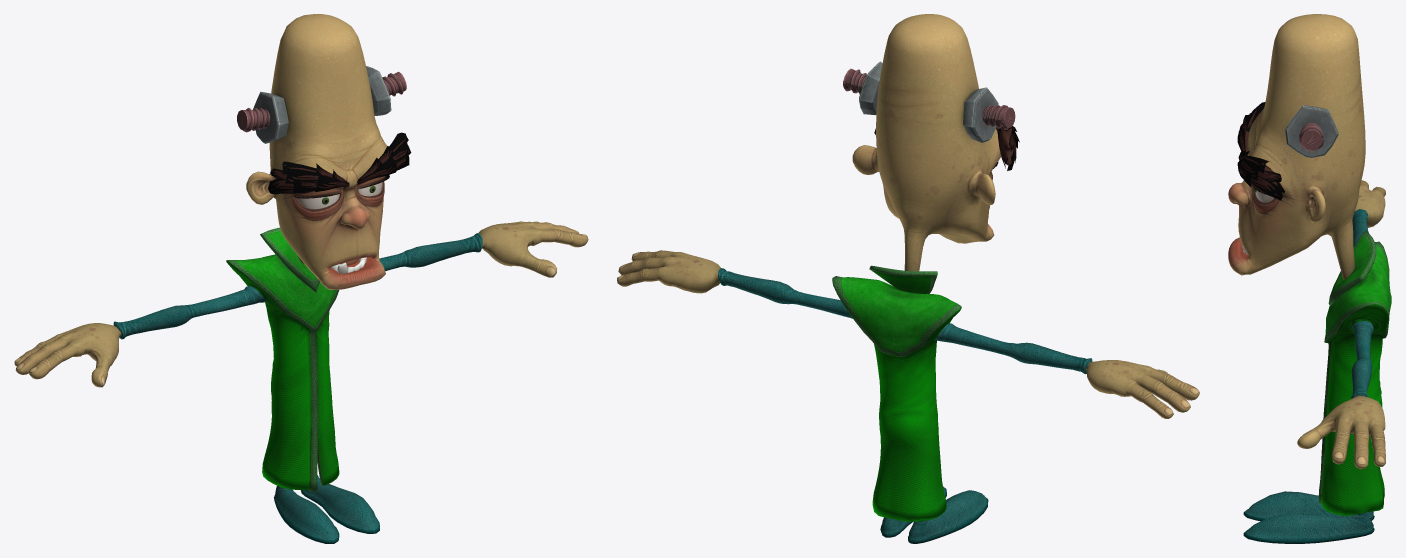
Rendered from nitrus_brio.glb.
3 views of the same model, side by side, from view 1: azimuth 30°, elevation 25°; view 2: azimuth 150°, elevation 25°; view 3: azimuth 270°, elevation 25° (orthographic). The views are drawn at different scales.
Parts seen in each view (by area): view 1: Object_2, Object_6, Object_3, Object_5, Object_4, Object_7, Object_8; view 2: Object_2, Object_4, Object_3, Object_5, Object_7, Object_6; view 3: Object_3, Object_4, Object_2, Object_5, Object_6, Object_7, Object_8.
Boxes of the visible parts, x1,y1,x2,y2 form: Object_2: [269, 15, 387, 284]; Object_6: [15, 66, 553, 490]; Object_3: [246, 14, 385, 543]; Object_5: [36, 221, 588, 492]; Object_4: [14, 218, 569, 541]; Object_7: [227, 73, 556, 331]; Object_8: [268, 132, 411, 198]; Object_2: [852, 15, 992, 242]; Object_4: [650, 268, 1199, 543]; Object_3: [876, 14, 1000, 537]; Object_5: [617, 231, 1184, 510]; Object_7: [832, 72, 1009, 355]; Object_6: [637, 61, 1190, 453]; Object_3: [1228, 14, 1374, 543]; Object_4: [1244, 187, 1385, 540]; Object_2: [1228, 14, 1365, 271]; Object_5: [1297, 186, 1388, 503]; Object_6: [1232, 102, 1387, 445]; Object_7: [1242, 110, 1391, 443]; Object_8: [1237, 102, 1285, 200].
Bounding box in the file's own units: 242 × 203 × 59.42.
2 materials, 2 textured.
